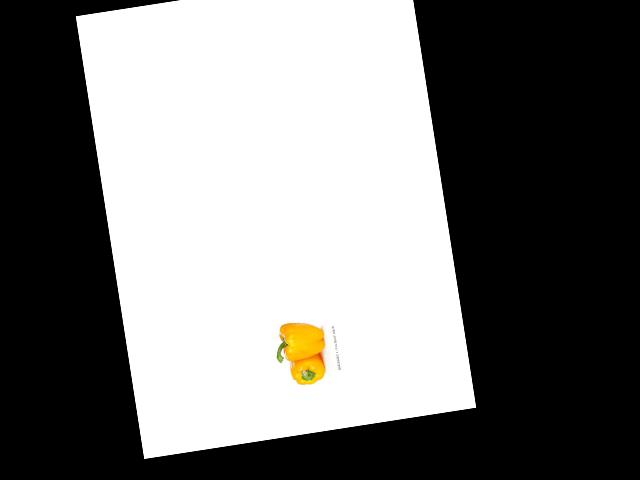bell_pepper: (285, 350, 328, 387)
